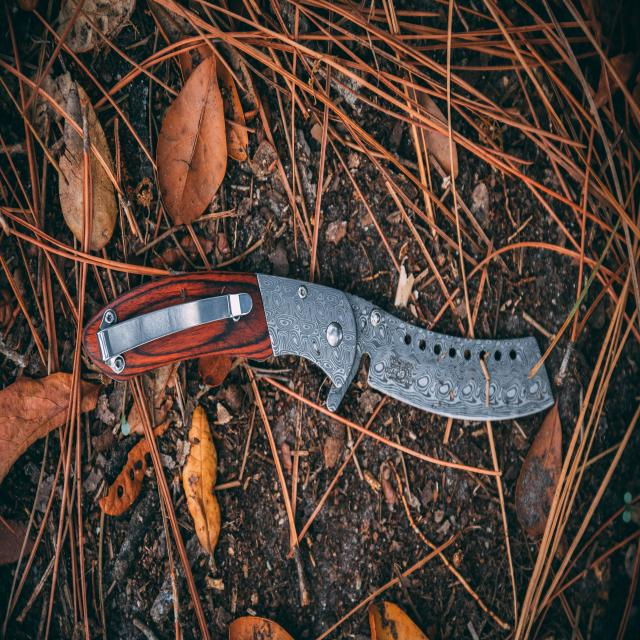Metal: (257, 276, 556, 425)
